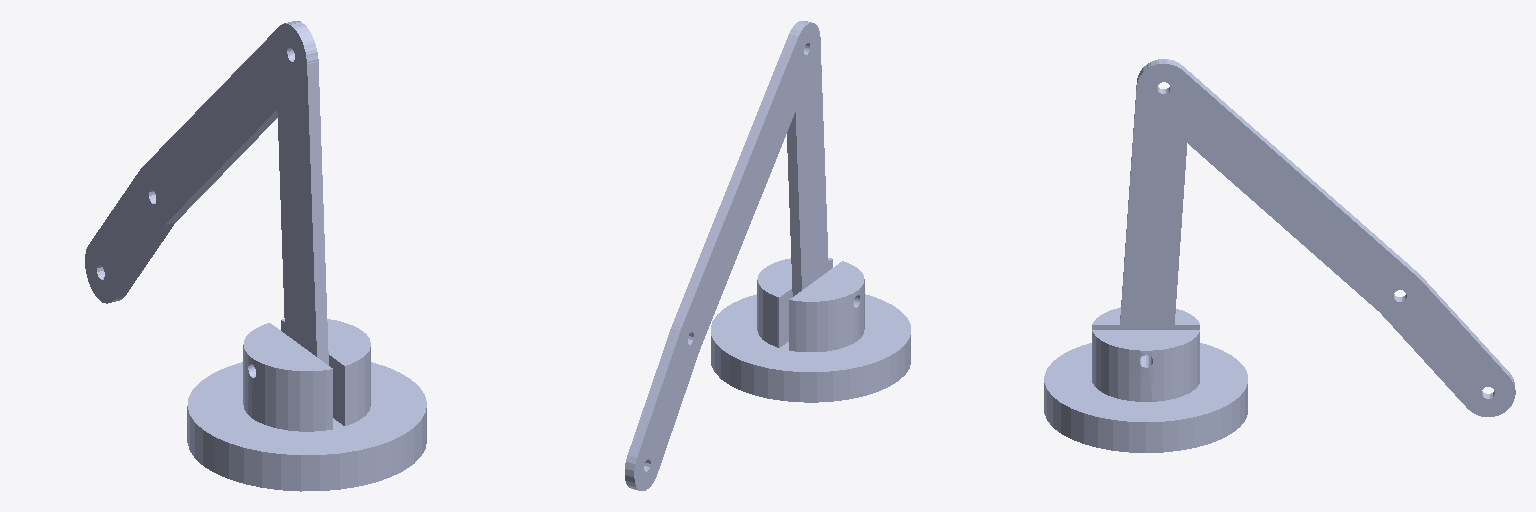
robot.urdf — automation_lab_description:
<?xml version="1.0" encoding="utf-8"?>
<robot xmlns:xacro="http://www.ros.org/wiki/xacro" name="automation_lab_description">

  <link name="base_link">
    <inertial>
      <origin xyz="8.42733314122129E-10 -7.83632932849221E-10 0.0131339548413242" rpy="0 0 0" />
      <mass value="0.133462680280402" />
      <inertia
        ixx="6.80679000064331E-05"
        ixy="8.29276899439569E-14"
        ixz="2.33309541601879E-12"
        iyy="6.89452001264637E-05"
        iyz="2.0159402068449E-12"
        izz="0.000108227859090869" />
    </inertial>
    <visual>
      <origin xyz="0 0 0" rpy="0 0 0" />
      <geometry>
        <mesh filename="package://automation_lab_description/meshes/base_link.STL" />
      </geometry>
      <material name="base_material">
        <color rgba="0.792 0.82 0.933 1" />
      </material>
    </visual>
    <collision>
      <origin xyz="0 0 0" rpy="0 0 0" />
      <geometry>
        <mesh filename="package://automation_lab_description/meshes/base_link.STL" />
      </geometry>
    </collision>
  </link>

  <link name="link1">
    <inertial>
      <origin xyz="0.002145828189896 -0.0156062150937305 0.0594869401671343" rpy="0 0 0" />
      <mass value="0.0167392033717616" />
      <inertia
        ixx="2.83815397709826E-05"
        ixy="-3.32958603211551E-23"
        ixz="1.18801289732245E-22"
        iyy="2.5901189159329E-05"
        iyz="6.57888452256705E-06"
        izz="2.55009729236924E-06" />
    </inertial>
    <visual>
      <origin xyz="0 0 0" rpy="0 0 0" />
      <geometry>
        <mesh filename="package://automation_lab_description/meshes/link1.STL" />
      </geometry>
      <material name="link1_material">
        <color rgba="0.792 0.82 0.933 1" />
      </material>
    </visual>
    <collision>
      <origin xyz="0 0 0" rpy="0 0 0" />
      <geometry>
        <mesh filename="package://automation_lab_description/meshes/link1.STL" />
      </geometry>
    </collision>
  </link>

  <joint name="joint1" type="revolute">
    <origin xyz="-0.0021458 0 0.034765" rpy="-0.31971 0 0" />
    <parent link="base_link" />
    <child link="link1" />
    <axis xyz="1 0 0" />
    <limit lower="-3.14" upper="3.14" effort="0.1" velocity="0.5" />
  </joint>

  <link name="link2">
    <inertial>
      <origin xyz="0.00214582818989599 0.0672889930071242 -0.026989653945303" rpy="0 0 0" />
      <mass value="0.0193792033717616" />
      <inertia
        ixx="4.35566255409592E-05"
        ixy="4.48632131738975E-21"
        ixz="-1.47138353725325E-21"
        iyy="6.73880803048465E-06"
        iyz="1.44164359450204E-05"
        izz="3.68985641911903E-05" />
    </inertial>
    <visual>
      <origin xyz="0 0 0" rpy="0 0 0" />
      <geometry>
        <mesh filename="package://automation_lab_description/meshes/link2.STL" />
      </geometry>
      <material name="link2_material">
        <color rgba="0.792 0.82 0.933 1" />
      </material>
    </visual>
    <collision>
      <origin xyz="0 0 0" rpy="0 0 0" />
      <geometry>
        <mesh filename="package://automation_lab_description/meshes/link2.STL" />
      </geometry>
    </collision>
  </link>

  <joint name="joint2" type="revolute">
    <origin xyz="0 -0.031212 0.11897" rpy="-0.069411 0 0" />
    <parent link="link1" />
    <child link="link2" />
    <axis xyz="1 0 0" />
    <limit lower="-3.14" upper="3.14" effort="0.1" velocity="0.5" />
  </joint>

  <link name="link3">
    <inertial>
      <origin xyz="0.00214582818989599 0.019435340314808 -0.0235056917968312" rpy="0 0 0" />
      <mass value="0.00929920337176157" />
      <inertia
        ixx="5.32663175471859E-06"
        ixy="-2.06045520708131E-23"
        ixz="-1.08273418539216E-23"
        iyy="3.10190325015661E-06"
        iyz="2.19142495279948E-06"
        izz="2.26347518527766E-06" />
    </inertial>
    <visual>
      <origin xyz="0 0 0" rpy="0 0 0" />
      <geometry>
        <mesh filename="package://automation_lab_description/meshes/link3.STL" />
      </geometry>
      <material name="link3_material">
        <color rgba="0.792 0.82 0.933 1" />
      </material>
    </visual>
    <collision>
      <origin xyz="0 0 0" rpy="0 0 0" />
      <geometry>
        <mesh filename="package://automation_lab_description/meshes/link3.STL" />
      </geometry>
    </collision>
  </link>

  <joint name="joint3" type="revolute">
    <origin xyz="0 0.13458 -0.053979" rpy="0.38912 0 0" />
    <parent link="link2" />
    <child link="link3" />
    <axis xyz="1 0 0" />
    <limit lower="-3.14" upper="3.14" effort="0.1" velocity="0.5" />
  </joint>
  
      <ros2_control name="automation_lab_control" type="system">
      <hardware>
	      <plugin>dynamixel_hardware/DynamixelHardware</plugin>
      </hardware>
            <joint name="joint1">
        <command_interface name="position"/>
        <state_interface name="position"/>
      </joint>

      <joint name="joint2">
        <command_interface name="position"/>
        <state_interface name="position"/>
      </joint>

      <joint name="joint3">
        <command_interface name="position"/>
        <state_interface name="position"/>
      </joint>

     </ros2_control>

</robot>


--- Render facts (derived) ---
The picture shows the robot from 3 angles, left to right: view 1: azimuth 30°, elevation 25°; view 2: azimuth 150°, elevation 25°; view 3: azimuth 270°, elevation 25°; orthographic projection.
Robot: automation_lab_description — 4 links, 3 joints (3 revolute); root link base_link; default pose: all joints at 0.
Visible links, largest first — view 1: base_link, link1, link2, link3; view 2: base_link, link2, link1, link3; view 3: base_link, link2, link1, link3.
Link boxes in pixels (box(x1,y1,x2,y2)): base_link: box(187, 319, 426, 491); link1: box(275, 21, 328, 365); link2: box(137, 21, 318, 226); link3: box(85, 167, 174, 303); base_link: box(711, 258, 910, 402); link2: box(672, 21, 819, 363); link1: box(787, 21, 828, 296); link3: box(625, 312, 703, 490); base_link: box(1044, 307, 1247, 452); link2: box(1137, 59, 1426, 320); link1: box(1119, 59, 1190, 329); link3: box(1373, 272, 1515, 416).
Size in the robot's own frame: 0.09 by 0.2075 by 0.1719 metres.
4 mesh visuals loaded from 4 distinct referenced files (4 binary STL).